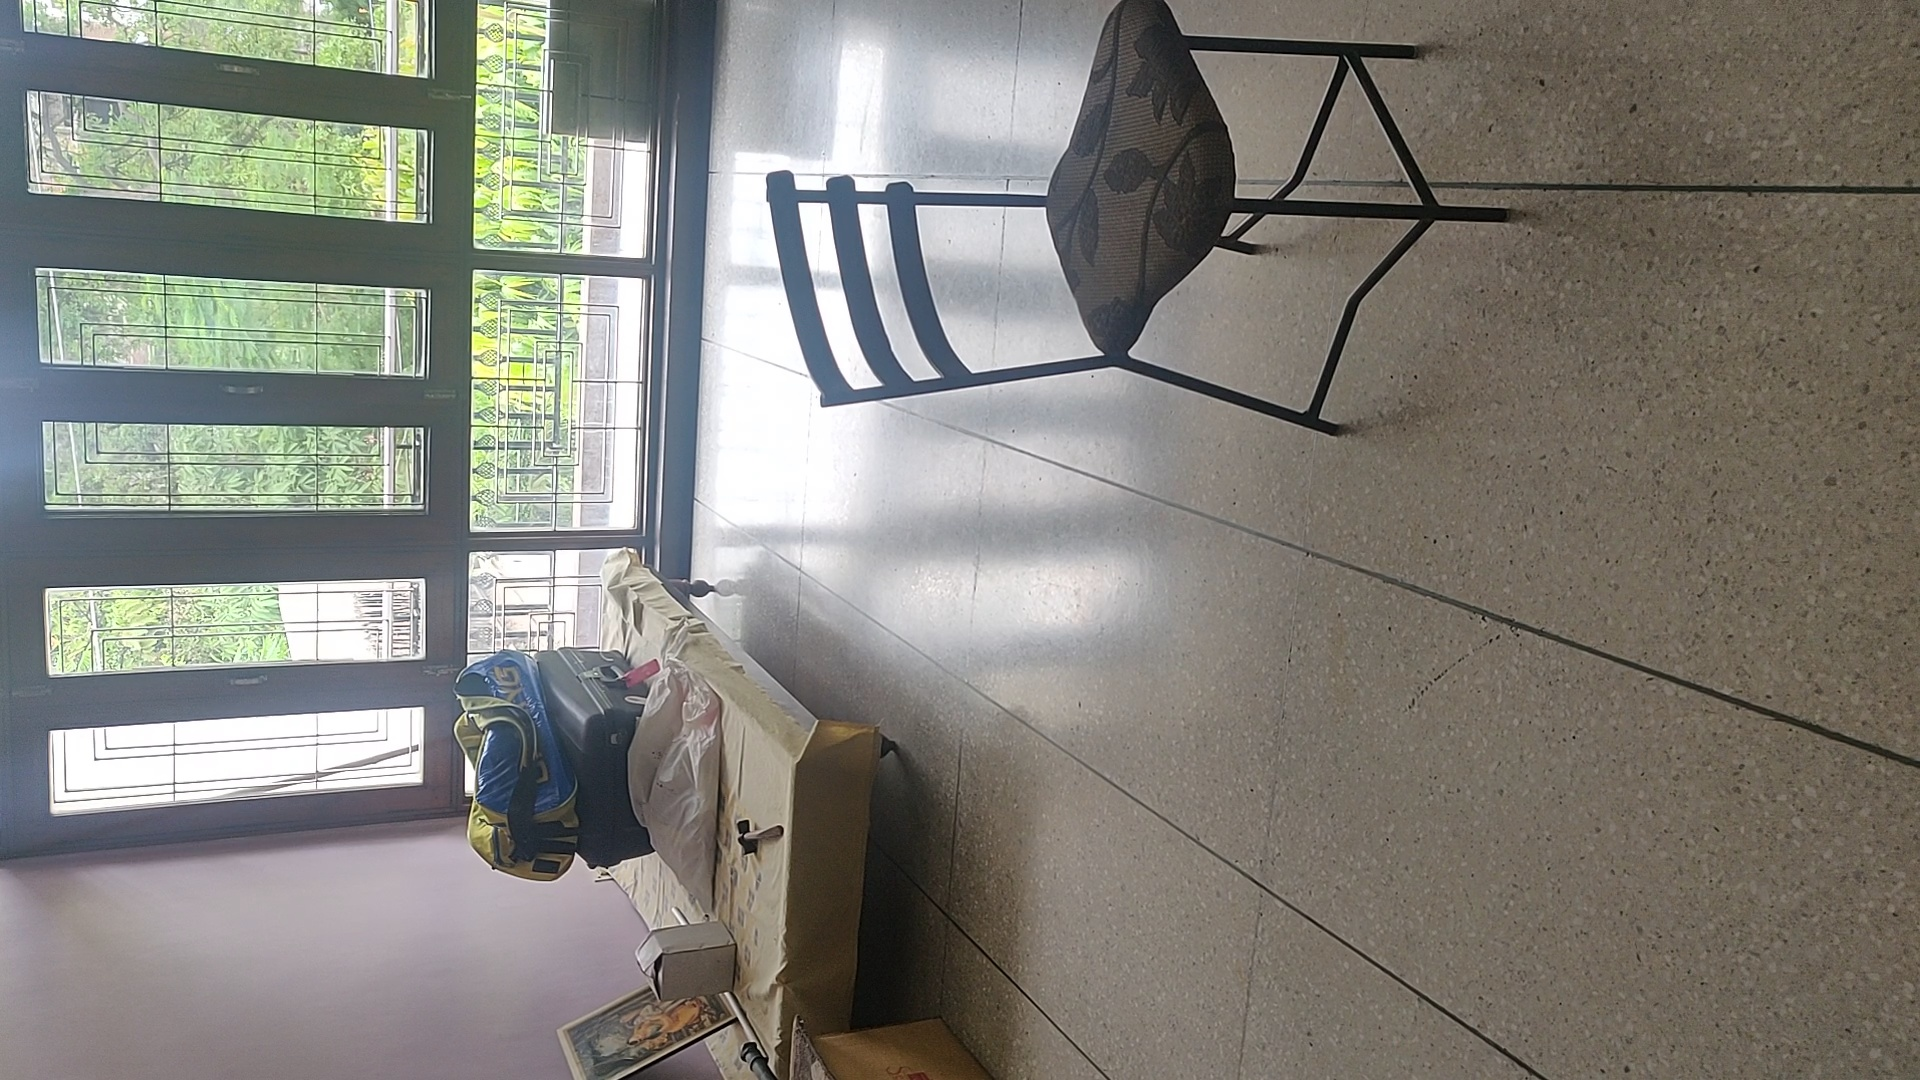hammer: (733, 818, 785, 858)
